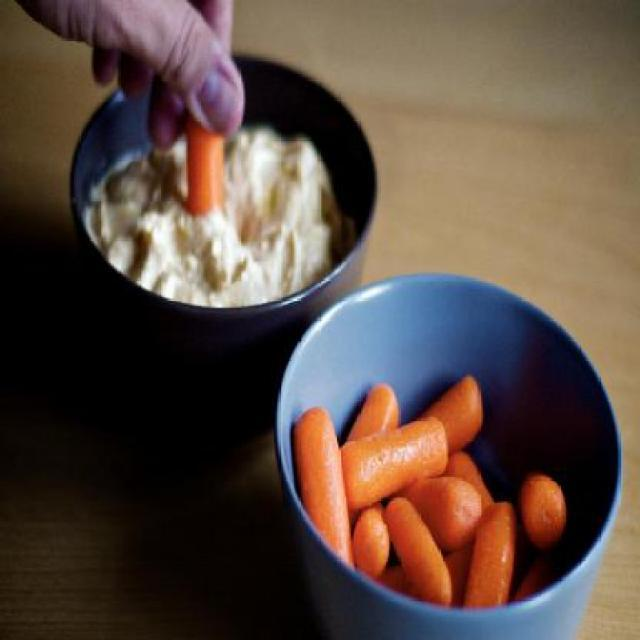Carrot: (292, 402, 356, 570)
